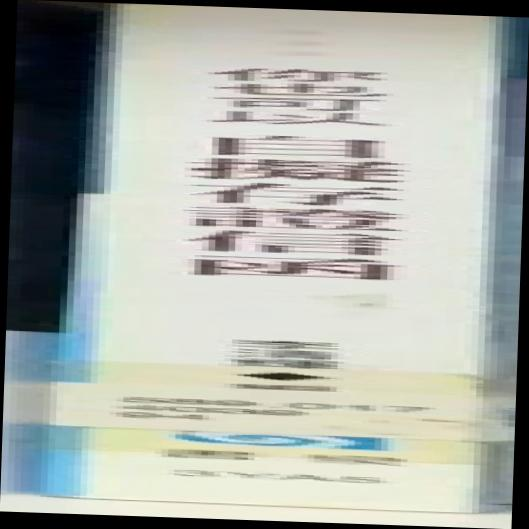book: (1, 1, 523, 529)
